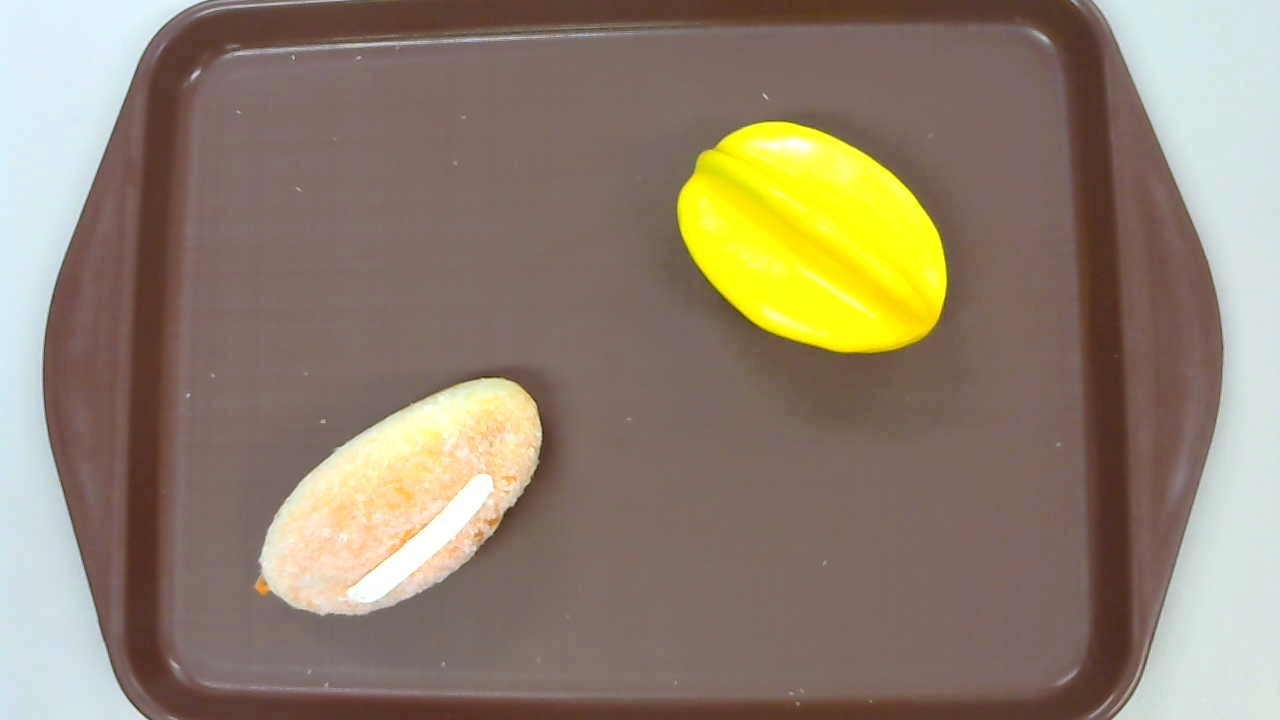coconut: (254, 378, 543, 615)
star fruit: (675, 122, 946, 356)
